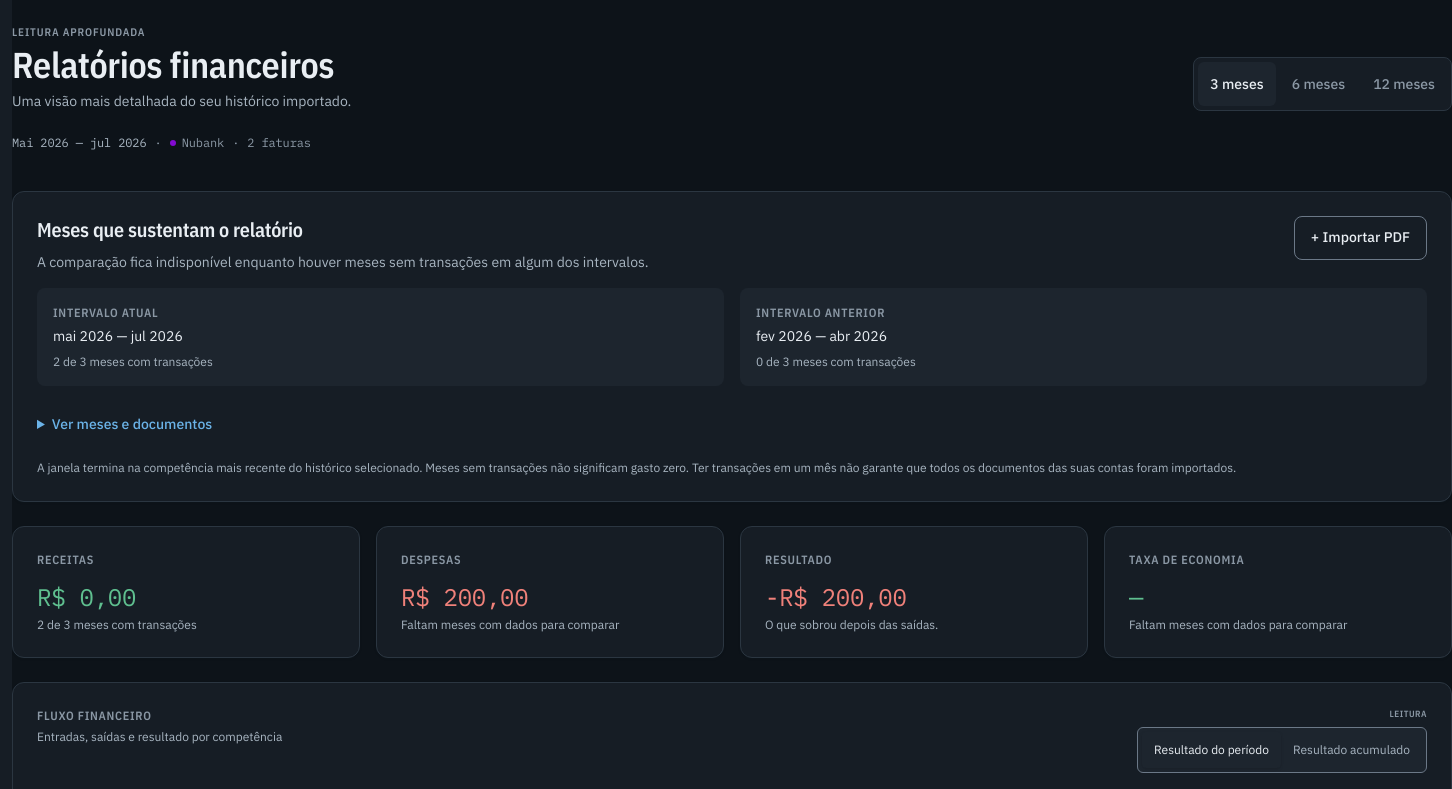
Test: Relatórios — estados e navegação › explica meses ausentes e lista documentos sem exibir percentuais de comparação
expect the heading "Meses que sustentam o relatório" is shown: met, box 37,216 -> 303,242
expect the text "A comparação fica indisponível" is shown: met, box 37,252 -> 648,270
Step 1. Click the heading "Ver meses e documentos" → point(132, 424), box 52,414 -> 212,432
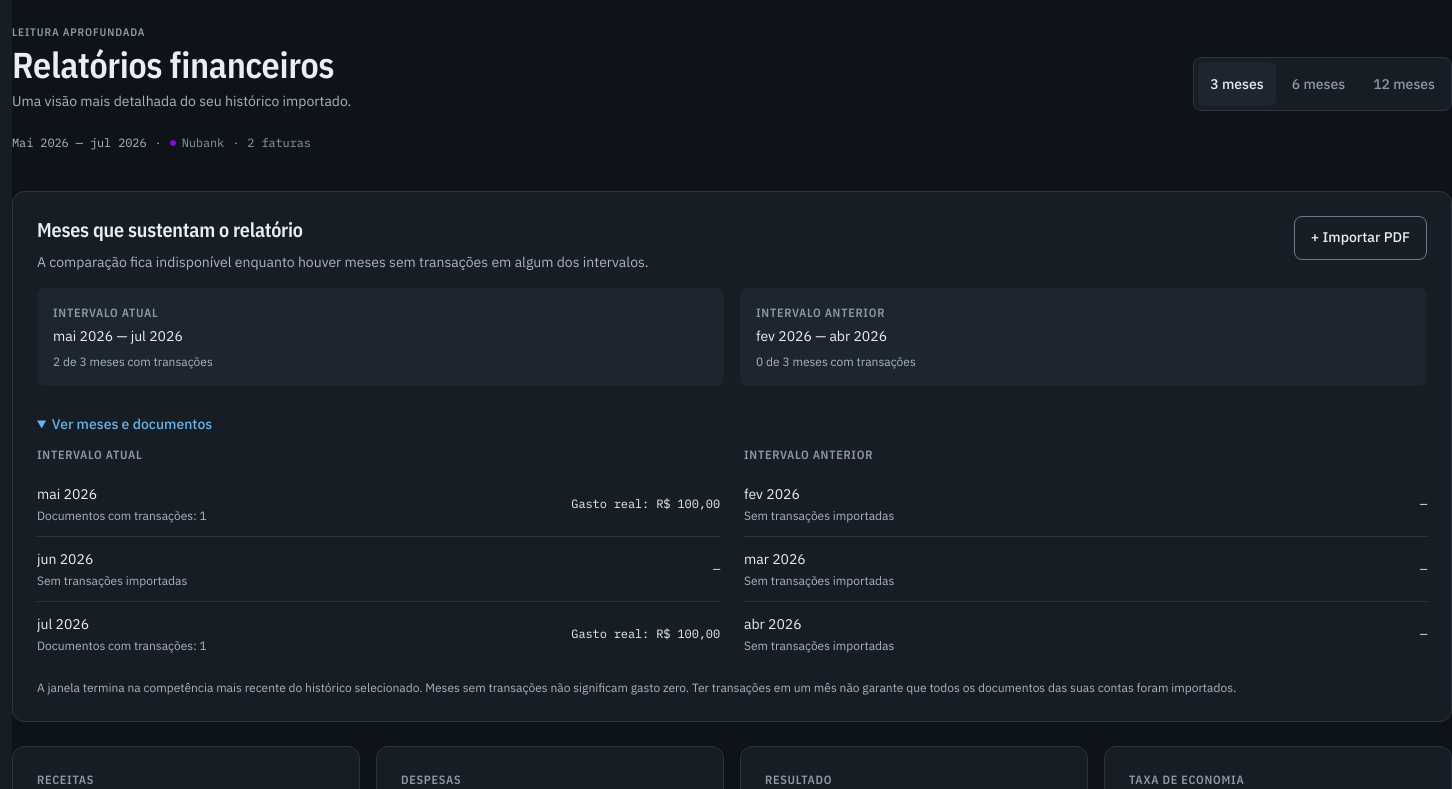
expect the list item "jun 2026" does not show "R$": met, box 37,536 -> 720,602
expect the list item "jun 2026" shows "Sem transações importadas": met, box 37,572 -> 187,588
expect the text "Documentos com transações: 1" is shown 2 times: met, box 37,508 -> 207,524; 37,638 -> 207,654
